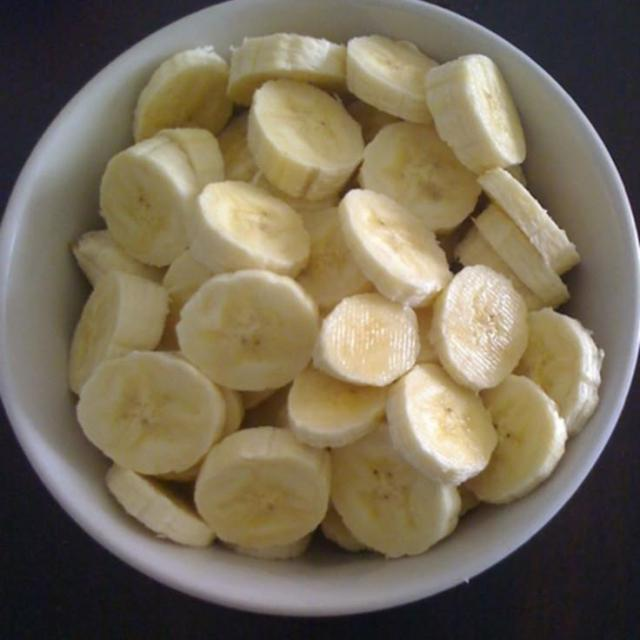banana slice: (78, 352, 225, 475), (331, 423, 459, 557), (177, 270, 318, 391), (195, 427, 330, 549), (248, 80, 363, 200), (359, 123, 480, 232), (387, 364, 496, 484), (340, 189, 451, 306), (100, 137, 199, 266), (467, 375, 566, 503), (69, 271, 167, 393), (432, 266, 527, 391), (426, 55, 526, 173), (188, 181, 309, 277), (516, 309, 603, 435), (478, 168, 579, 274), (474, 205, 569, 307), (314, 294, 419, 386), (134, 46, 233, 141), (106, 465, 215, 547), (227, 33, 346, 106), (347, 35, 437, 123), (287, 368, 387, 447), (454, 225, 544, 310), (298, 208, 372, 310), (158, 250, 213, 350), (72, 230, 163, 286), (158, 128, 224, 189), (252, 172, 339, 214), (218, 112, 258, 181), (347, 99, 399, 144), (320, 504, 366, 552), (227, 534, 313, 559), (242, 386, 290, 428), (437, 216, 473, 270), (414, 306, 438, 363), (154, 457, 204, 484), (220, 386, 245, 437), (240, 389, 277, 410), (458, 485, 480, 517), (505, 165, 527, 187)
